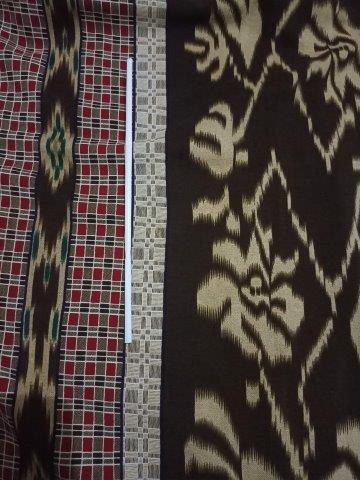sedotan: (124, 58, 132, 343)
